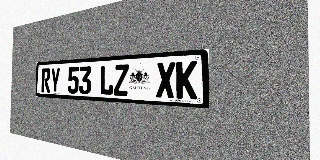3: (79, 66, 91, 94)
5: (68, 67, 79, 94)
K: (176, 61, 197, 99)
L: (100, 65, 114, 95)
R: (41, 68, 50, 93)
X: (156, 62, 175, 98)
Y: (50, 68, 60, 93)
Z: (114, 64, 129, 96)
